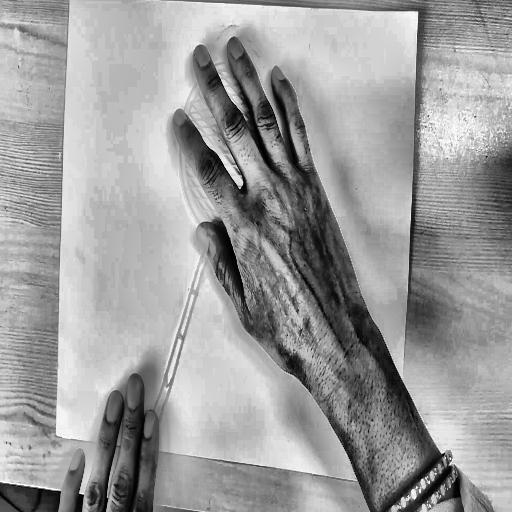badminton: (119, 44, 347, 464)
bottom_left: (52, 427, 60, 442)
bottom_right: (394, 477, 401, 488)
top_right: (415, 6, 422, 18)
